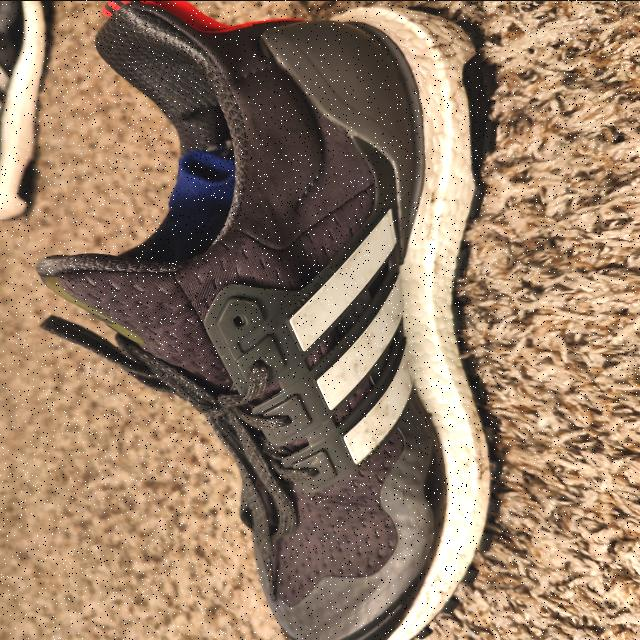black shoes: (288, 21, 487, 583)
